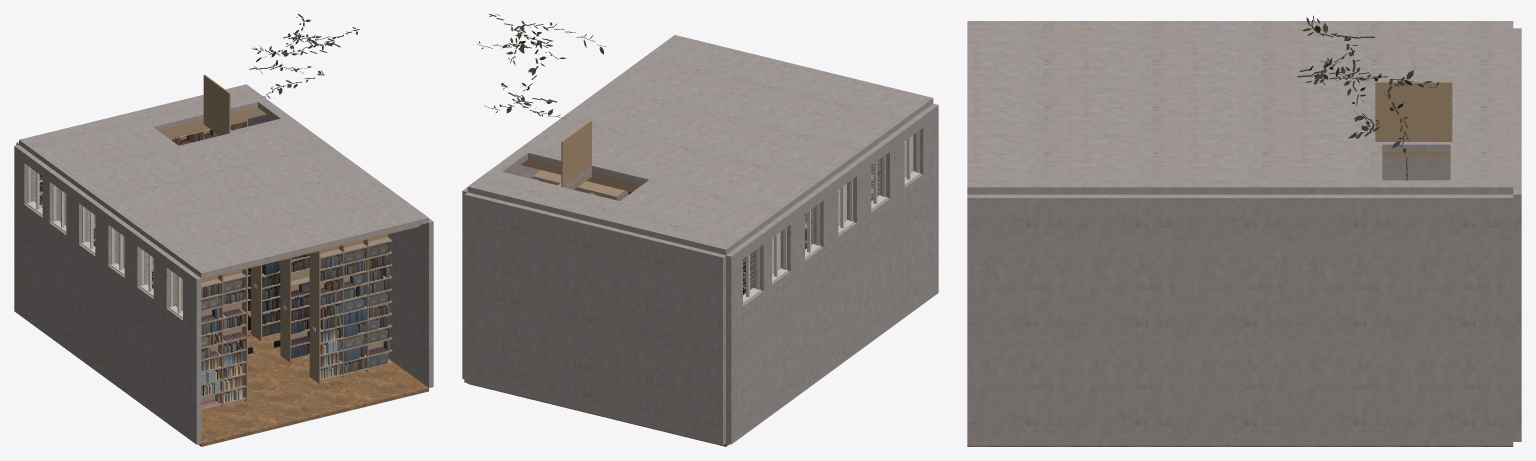
File: archive.glb
3 views of the same model, side by side, from view 1: azimuth 30°, elevation 25°; view 2: azimuth 150°, elevation 25°; view 3: azimuth 270°, elevation 25° (orthographic). The views are drawn at different scales.
Parts seen in each view (by area): view 1: Archive_shell, Archive_books; view 2: Archive_shell; view 3: Archive_shell.
Part boxes in pixels (bbox=[...]): Archive_shell: bbox=[14, 14, 433, 446]; Archive_books: bbox=[39, 121, 390, 408]; Archive_shell: bbox=[462, 14, 938, 446]; Archive_shell: bbox=[967, 15, 1521, 446].
Size of the model in its own units: 8.84 by 8.38 by 10.15.
57 materials, 20 textured.
